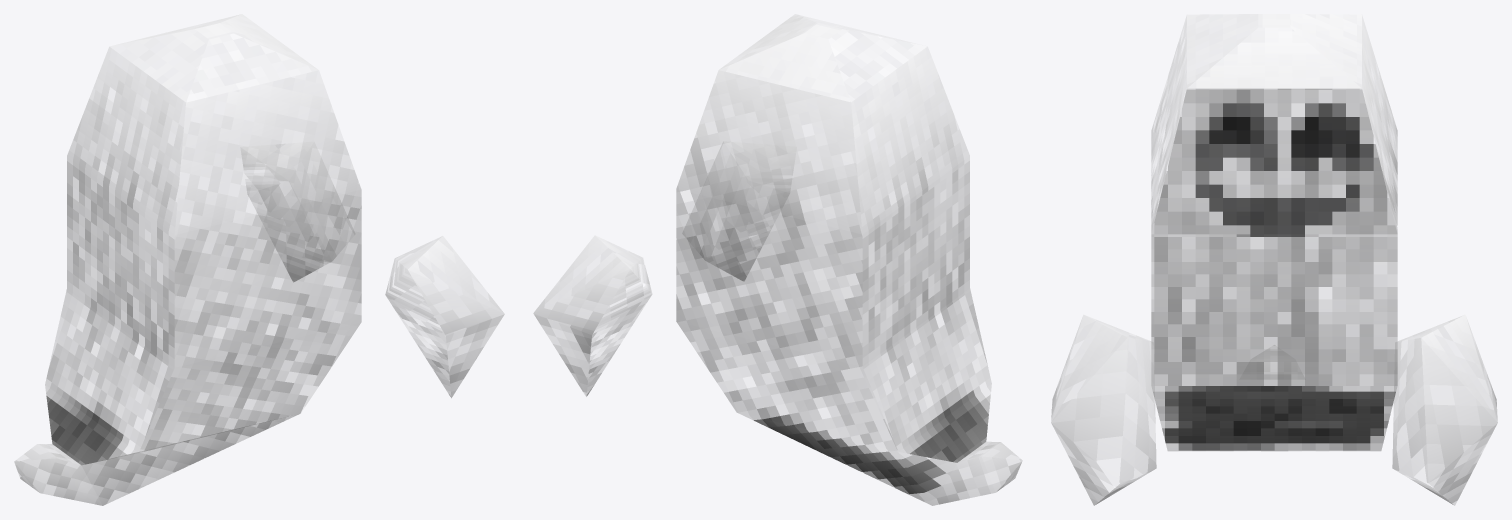
Rendered from KindredSpirits.glb.
3 views of the same model, side by side, from view 1: azimuth 30°, elevation 25°; view 2: azimuth 150°, elevation 25°; view 3: azimuth 270°, elevation 25° (orthographic). The views are drawn at different scales.
Parts seen in each view (by area): view 1: Körper, Arm_Rechts, Arm_Links; view 2: Körper, Arm_Links, Arm_Rechts; view 3: Körper, Arm_Links, Arm_Rechts.
Boxes of the visible parts, x1,y1,x2,y2 form: Körper: (14,14,361,505); Arm_Rechts: (385,236,504,397); Arm_Links: (240,142,354,281); Körper: (676,14,1022,505); Arm_Links: (533,235,651,396); Arm_Rechts: (683,141,796,280); Körper: (1151,14,1397,450); Arm_Links: (1392,315,1497,505); Arm_Rechts: (1051,315,1156,505).
Bounding box in the file's own units: 0.9806 × 0.9943 × 0.8126.
1 material, 1 textured.
